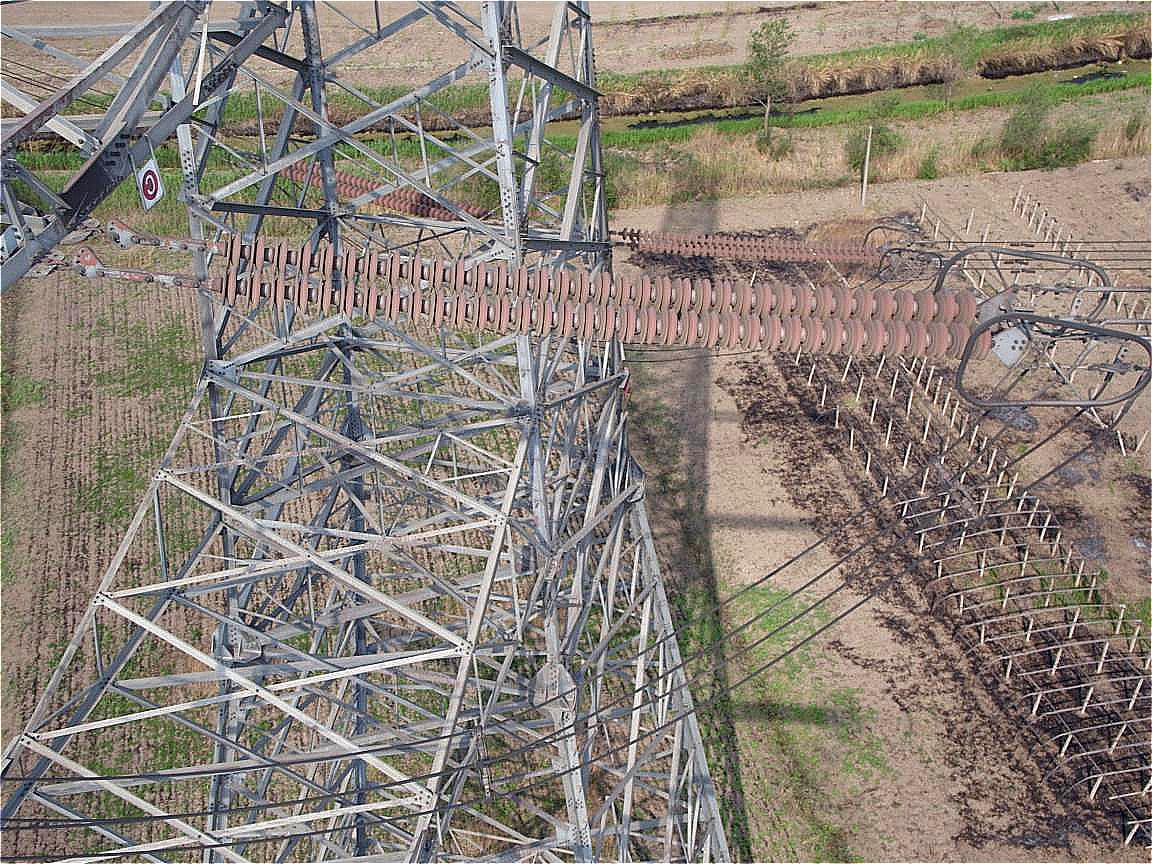insultor1: (611, 216, 898, 275)
insultor2: (175, 216, 1027, 366)
